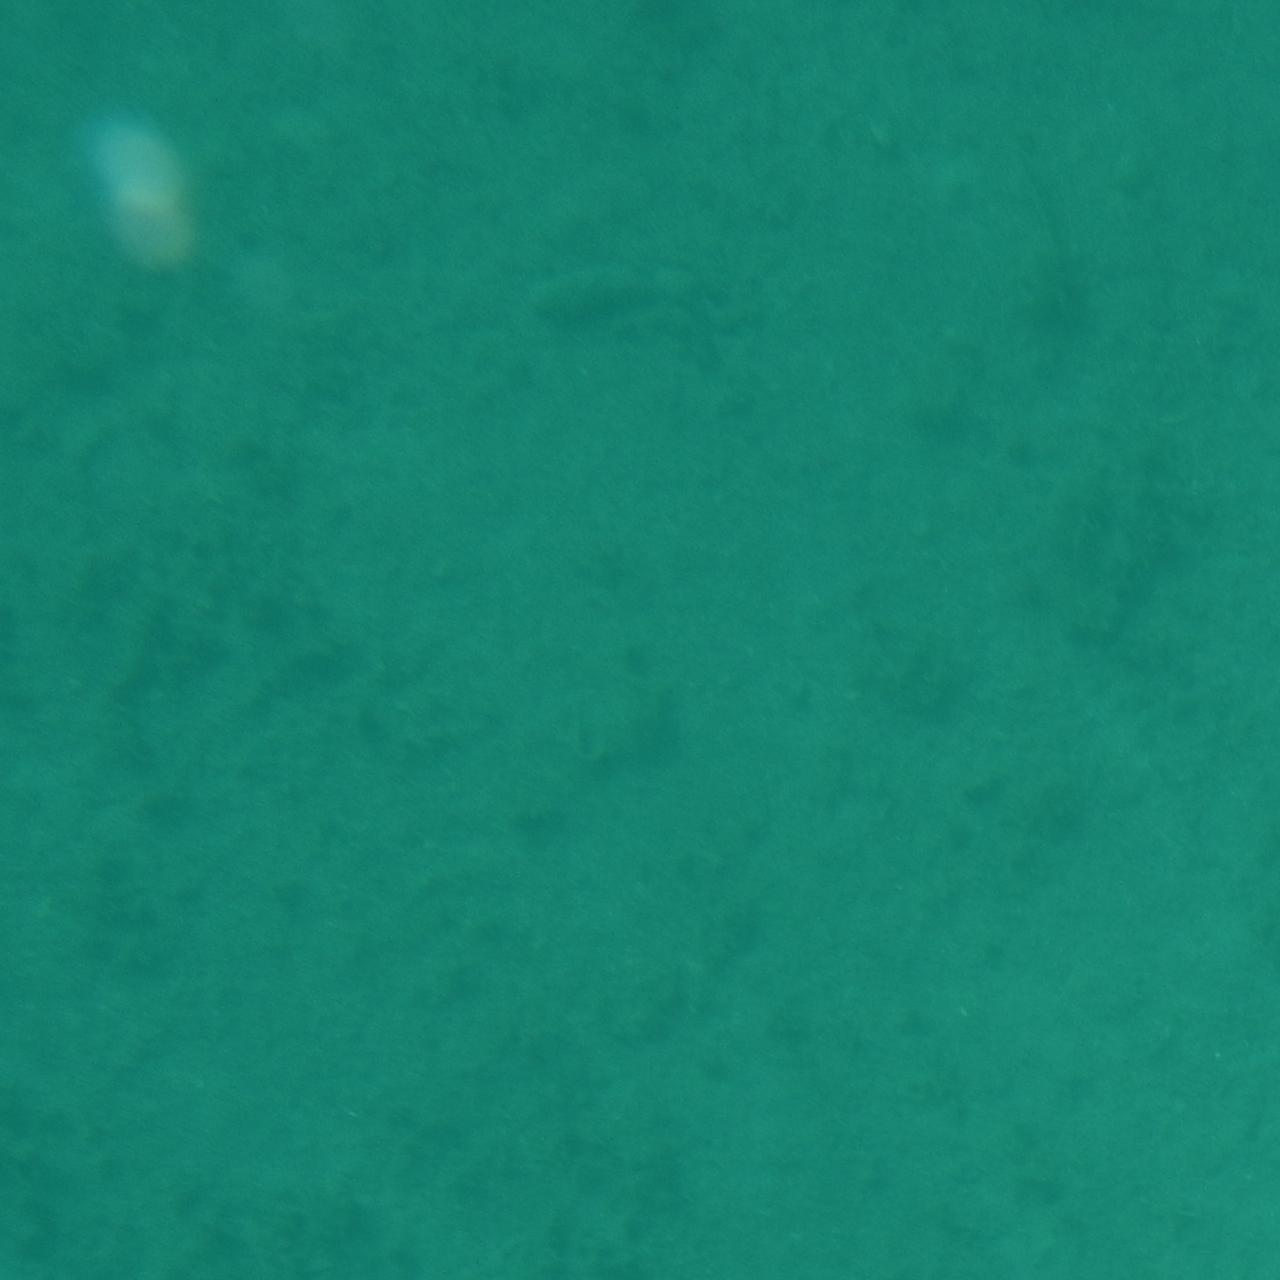Holothuria tubulosa: (538, 234, 742, 356)
